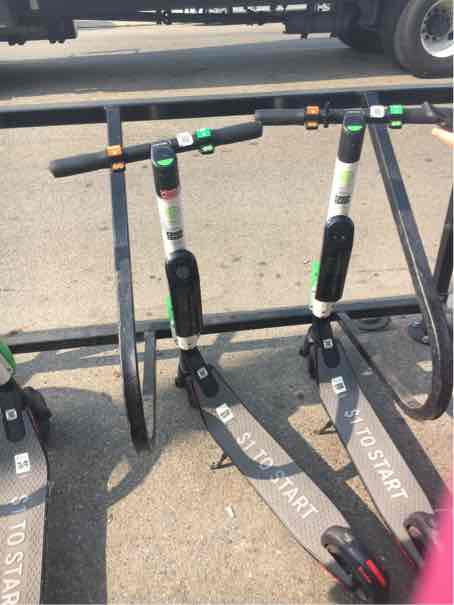scooter: (45, 122, 376, 587), (253, 92, 449, 578)
